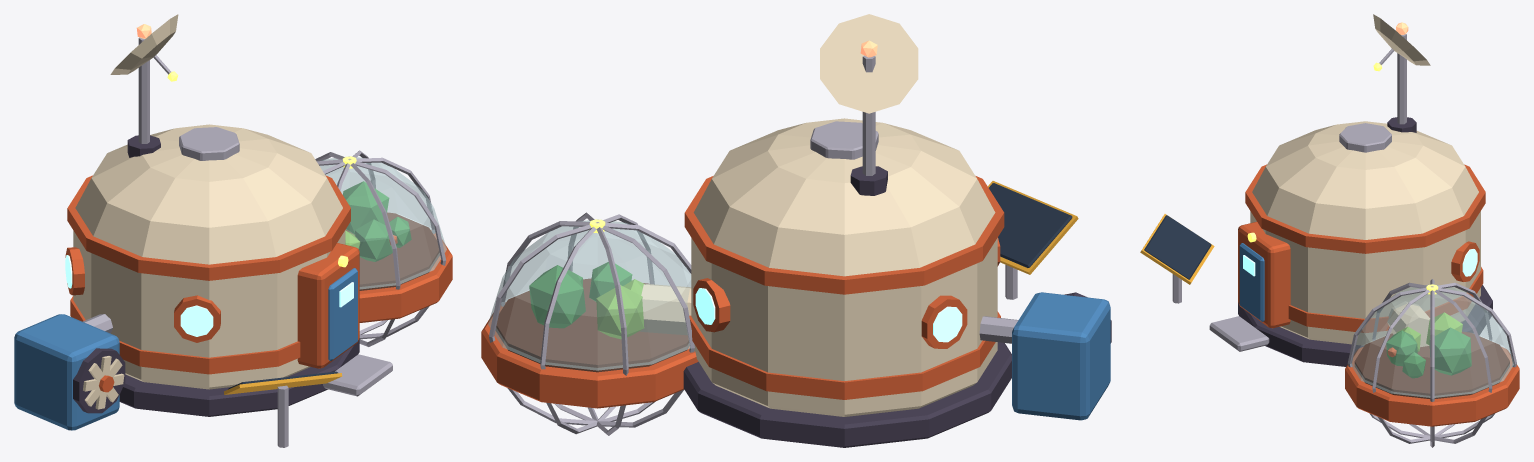
Rendered from MOONSHIFT_FAC_Habitat_Module.glb.
3 views of the same model, side by side, from view 1: azimuth 30°, elevation 25°; view 2: azimuth 150°, elevation 25°; view 3: azimuth 270°, elevation 25° (orthographic). The views are drawn at different scales.
Visible parts, largest first — view 1: Hab_Dome, Hab_Body, Garden_Glass, Fan_Housing, Hab_TopRing, Hab_Foundation, Hab_DoorFrame, Hab_Band, Garden_Base, Garden_Soil, Hab_Door, Hab_Hatch (+16 smaller); view 2: Hab_Dome, Hab_Body, Garden_Glass, Hab_Foundation, Fan_Housing, Garden_Base, Garden_Soil, Radio_Dish, Hab_TopRing, Hab_Band, Solar_Panel, Garden_Plant0 (+15 smaller); view 3: Hab_Dome, Garden_Glass, Hab_Body, Garden_Base, Garden_Soil, Hab_TopRing, Hab_DoorFrame, Hab_Foundation, Solar_Panel, Hab_Band, Garden_Rib2, Garden_Plant0 (+14 smaller).
Boxes of the visible parts, x1,y1,x2,y2 form: Hab_Dome: (75, 124, 342, 264); Hab_Body: (73, 230, 345, 389); Garden_Glass: (320, 156, 446, 289); Fan_Housing: (14, 314, 119, 430); Hab_TopRing: (67, 175, 350, 280); Hab_Foundation: (119, 338, 359, 416); Hab_DoorFrame: (297, 243, 359, 368); Hab_Band: (70, 296, 300, 374); Garden_Base: (359, 230, 452, 322); Garden_Soil: (345, 212, 439, 290); Hab_Door: (328, 268, 357, 360); Hab_Hatch: (179, 127, 239, 160); Hab_Dome: (693, 118, 995, 276); Hab_Body: (691, 238, 997, 416); Garden_Glass: (488, 219, 691, 370); Hab_Foundation: (683, 342, 1011, 447); Fan_Housing: (1012, 292, 1110, 420); Garden_Base: (481, 302, 698, 408); Garden_Soil: (496, 278, 689, 372); Radio_Dish: (820, 14, 918, 113); Hab_TopRing: (684, 176, 1004, 294); Hab_Band: (689, 311, 1000, 399); Solar_Panel: (989, 183, 1072, 267); Garden_Plant0: (529, 265, 585, 328); Hab_Dome: (1252, 121, 1478, 239); Garden_Glass: (1350, 284, 1513, 397); Hab_Body: (1250, 211, 1480, 345); Garden_Base: (1345, 347, 1519, 426); Garden_Soil: (1354, 331, 1509, 398); Hab_TopRing: (1245, 164, 1485, 253); Hab_DoorFrame: (1238, 221, 1290, 328); Hab_Foundation: (1238, 285, 1492, 366); Solar_Panel: (1144, 215, 1211, 279); Hab_Band: (1288, 267, 1483, 332); Garden_Rib2: (1347, 286, 1516, 437); Garden_Plant0: (1429, 327, 1471, 375).
Bounding box in the file's own units: 3.83 × 3.04 × 3.13.
